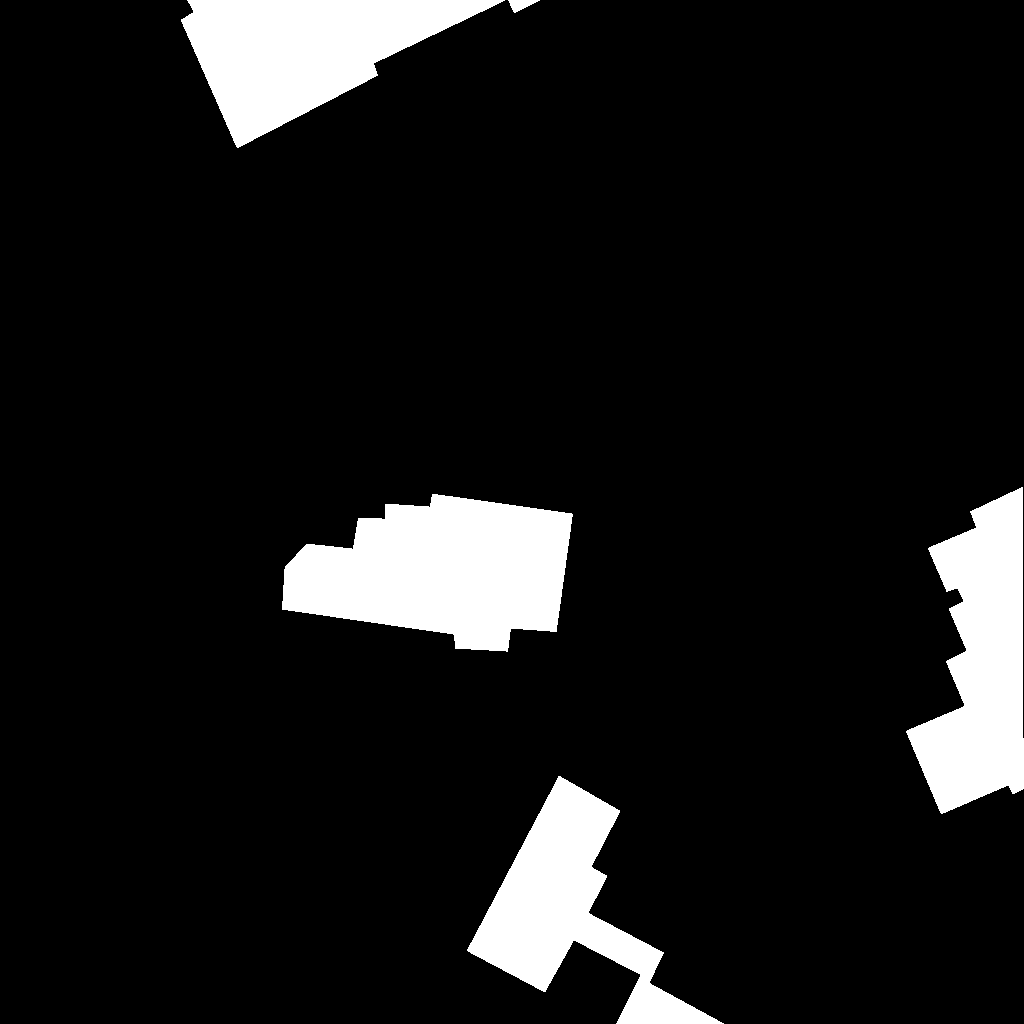building: (467, 776, 788, 1024), (181, 0, 542, 149), (282, 494, 574, 652), (906, 487, 1024, 815)
